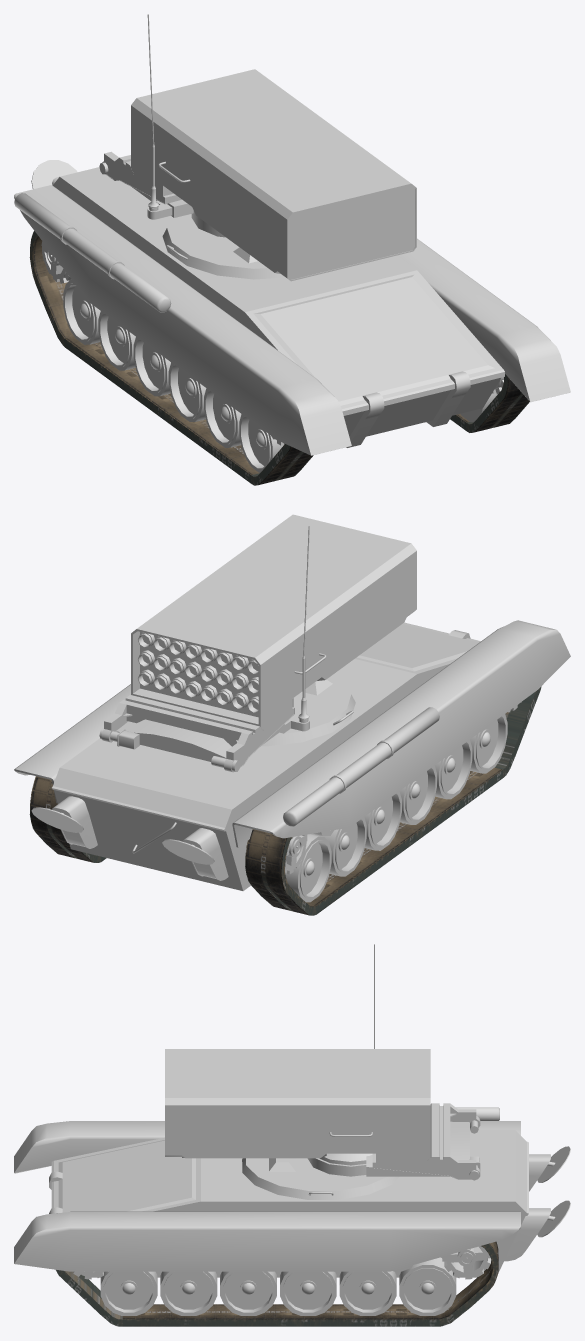
File: Anti_Tank_Vehicle_01.fbx
The picture shows the model from 3 angles, top to bottom: view 1: azimuth 30°, elevation 25°; view 2: azimuth 150°, elevation 25°; view 3: azimuth 270°, elevation 25°; orthographic projection. The views are drawn at different scales.
Visible parts, largest first — view 1: Body, Rocket, Wheels, Tread_01_1, Turret, Tread_01; view 2: Body, Rocket, Wheels, Tread_01_1, Turret, Tread_01; view 3: Body, Rocket, Wheels, Tread_01, Turret.
Part boxes in pixels (x1,y1,x2,y2): Body: (14,160,570,455); Rocket: (99,69,416,281); Wheels: (41,241,503,472); Tread_01_1: (29,231,313,485); Turret: (132,14,285,279); Tread_01: (450,374,529,432); Body: (14,620,570,890); Rocket: (99,514,416,772); Wheels: (285,702,521,902); Tread_01_1: (245,686,541,915); Turret: (115,526,355,761); Tread_01: (29,776,106,862); Body: (14,1107,570,1277); Rocket: (165,1049,480,1180); Wheels: (73,1246,490,1315); Tread_01: (56,1241,498,1326); Turret: (242,944,469,1199).
Size of the model in its own units: 369 by 453 by 770.
